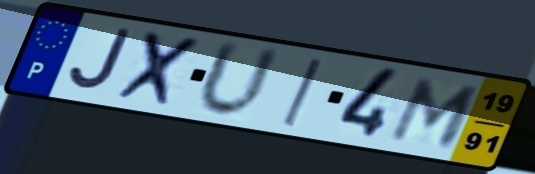4: (336, 64, 396, 144)
I: (278, 56, 326, 131)
J: (66, 26, 135, 94)
M: (384, 75, 486, 151)
U: (193, 38, 285, 122)
X: (111, 28, 209, 112)
